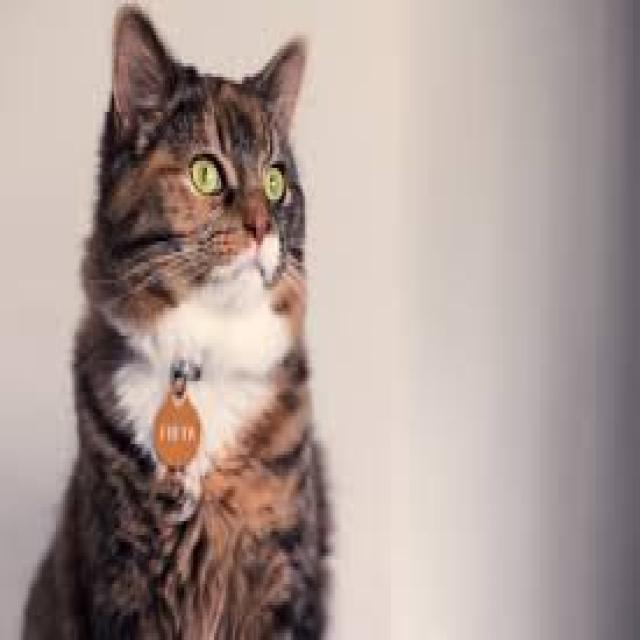cat: (115, 66, 305, 393)
